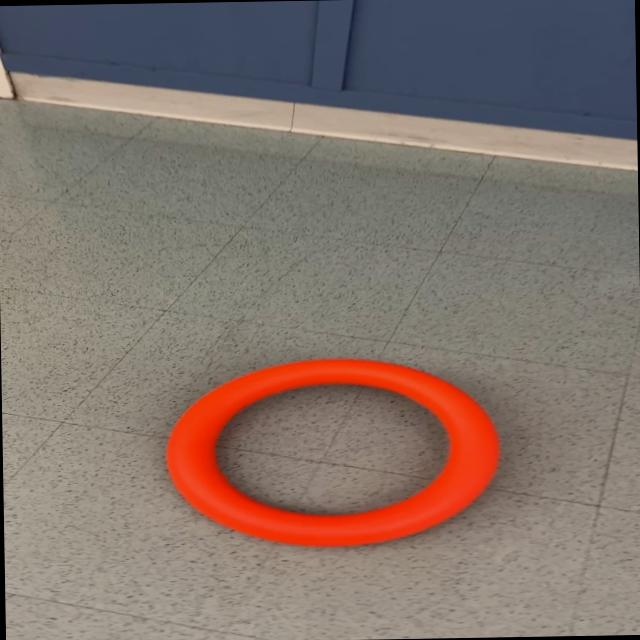note: (162, 354, 504, 550)
